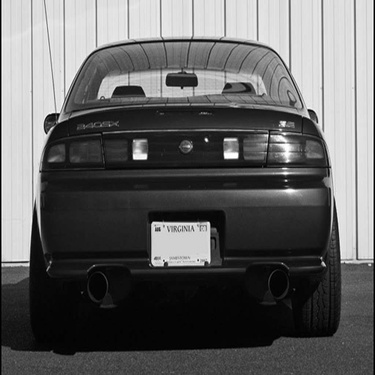car: (13, 22, 352, 339)
